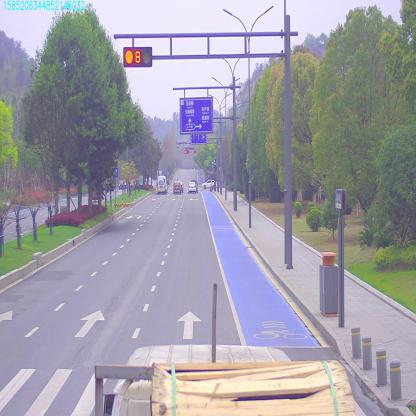traffic-light: (122, 46, 152, 70)
